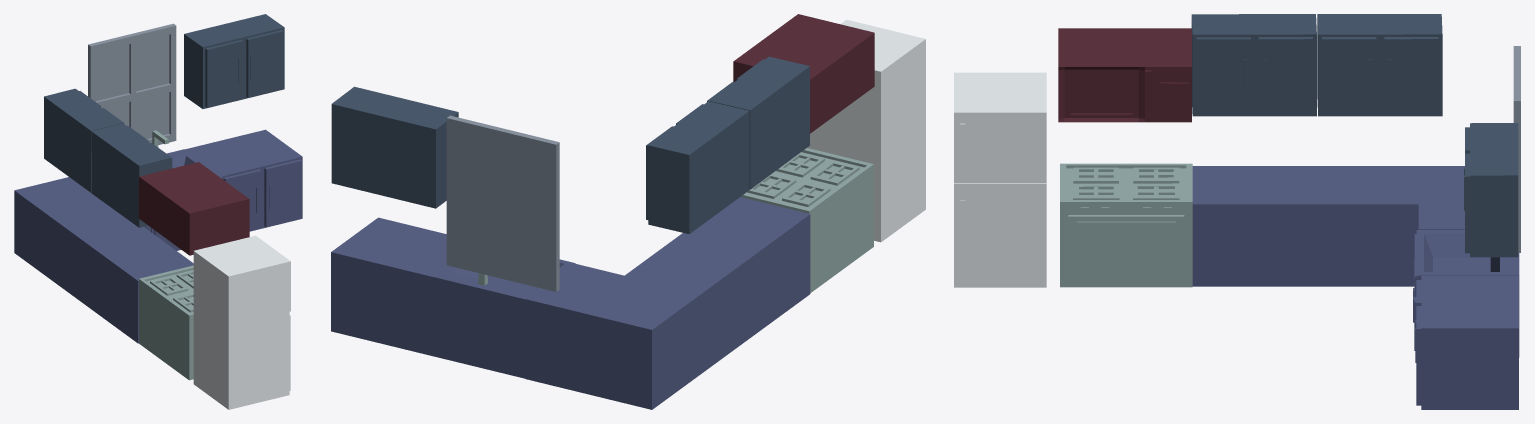
The model's file is Base Color Kitchen Furnished.fbx.
3 views of the same model, side by side, from view 1: azimuth 30°, elevation 25°; view 2: azimuth 150°, elevation 25°; view 3: azimuth 270°, elevation 25° (orthographic). The views are drawn at different scales.
Visible parts, largest first — view 1: Fridge, Counter, Window, Counter 2.003, Cube, Counter 2, Oven/Stove, Counter 2.001, Counter 2.002, Sink; view 2: Counter, Window, Fridge, Counter 2, Counter 2.003, Counter 2.002, Oven/Stove, Sink, Cube, Counter 2.001; view 3: Counter, Fridge, Oven/Stove, Counter 2, Counter 2.002, Counter 2.001, Cube, Counter 2.003, Sink, Window.
Boxes of the visible parts, x1,y1,x2,y2 form: Fridge: [193, 235, 290, 409]; Counter: [14, 177, 193, 343]; Window: [88, 23, 176, 144]; Counter 2.003: [184, 14, 284, 108]; Cube: [139, 162, 249, 255]; Counter 2: [185, 129, 302, 231]; Oven/Stove: [139, 265, 193, 380]; Counter 2.001: [91, 123, 172, 227]; Counter 2.002: [44, 88, 124, 192]; Sink: [151, 149, 223, 250]; Counter: [525, 197, 810, 409]; Window: [446, 115, 559, 291]; Fridge: [807, 19, 925, 242]; Counter 2: [331, 217, 449, 356]; Counter 2.003: [331, 86, 458, 208]; Counter 2.002: [646, 101, 749, 234]; Oven/Stove: [740, 148, 873, 292]; Sink: [434, 259, 575, 378]; Cube: [733, 14, 874, 133]; Counter 2.001: [707, 56, 809, 189]; Counter: [1192, 166, 1464, 286]; Fridge: [954, 72, 1046, 287]; Oven/Stove: [1060, 163, 1192, 287]; Counter 2: [1415, 276, 1518, 409]; Counter 2.002: [1317, 14, 1442, 116]; Counter 2.001: [1191, 14, 1316, 116]; Cube: [1058, 28, 1191, 122]; Counter 2.003: [1464, 123, 1518, 257]; Sink: [1413, 230, 1519, 357]; Window: [1513, 46, 1520, 252].
Bounding box in the file's own units: 1254 × 905 × 1856.
